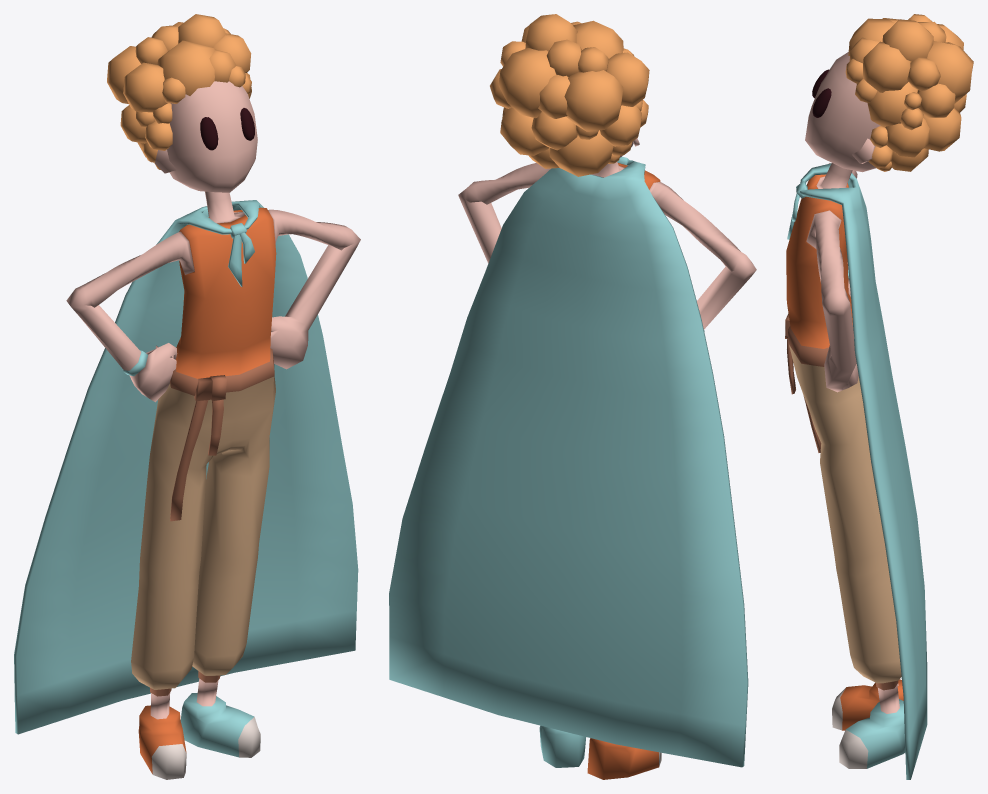
Rendered from adalbert.fbx.
3 views of the same model, side by side, from view 1: azimuth 30°, elevation 25°; view 2: azimuth 150°, elevation 25°; view 3: azimuth 270°, elevation 25° (orthographic). The views are drawn at different scales.
Parts seen in each view (by area): view 1: adalbert, pelerynka; view 2: pelerynka, adalbert; view 3: adalbert, pelerynka.
Boxes of the visible parts, x1,y1,x2,y2 form: adalbert: (66,14,360,779); pelerynka: (14,200,358,734); pelerynka: (389,156,748,767); adalbert: (458,14,756,779); adalbert: (785,14,973,768); pelerynka: (787,163,927,779).
Size of the model in its own units: 115 by 231 by 53.85.
